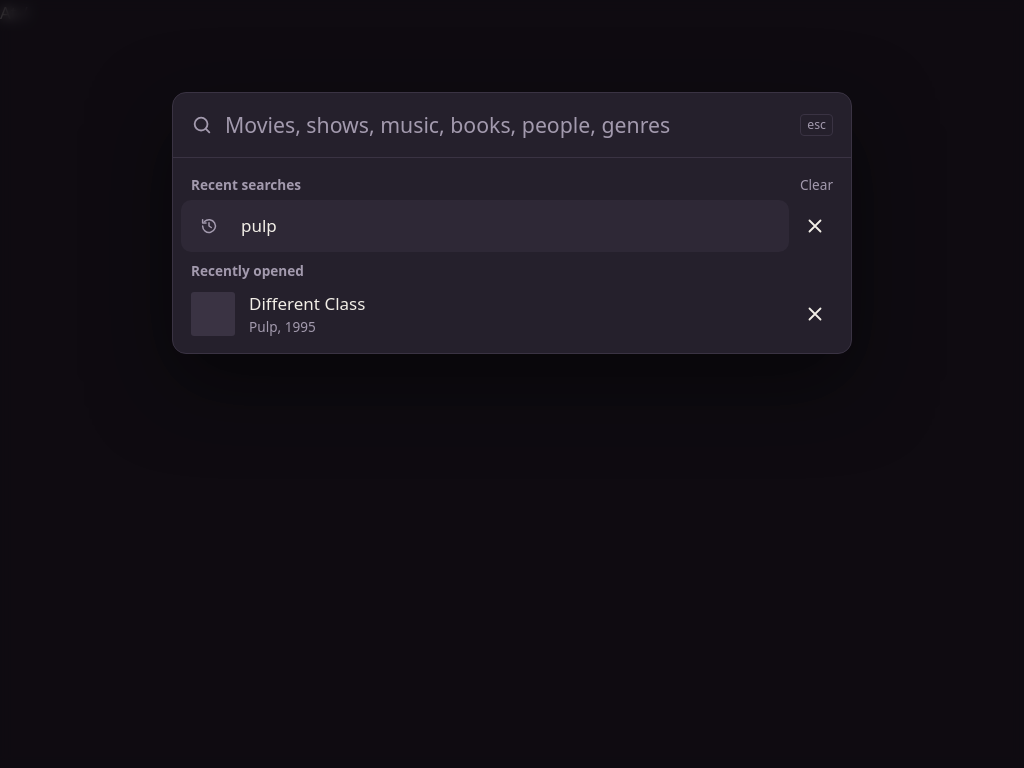
Test: SearchPalette › offers recent searches before anything’s typed, and searches again from one
Expected: the text "Different Class" is shown, [249, 291, 365, 317]
Click the option "pulp" at (259, 225), box [181, 200, 789, 252]
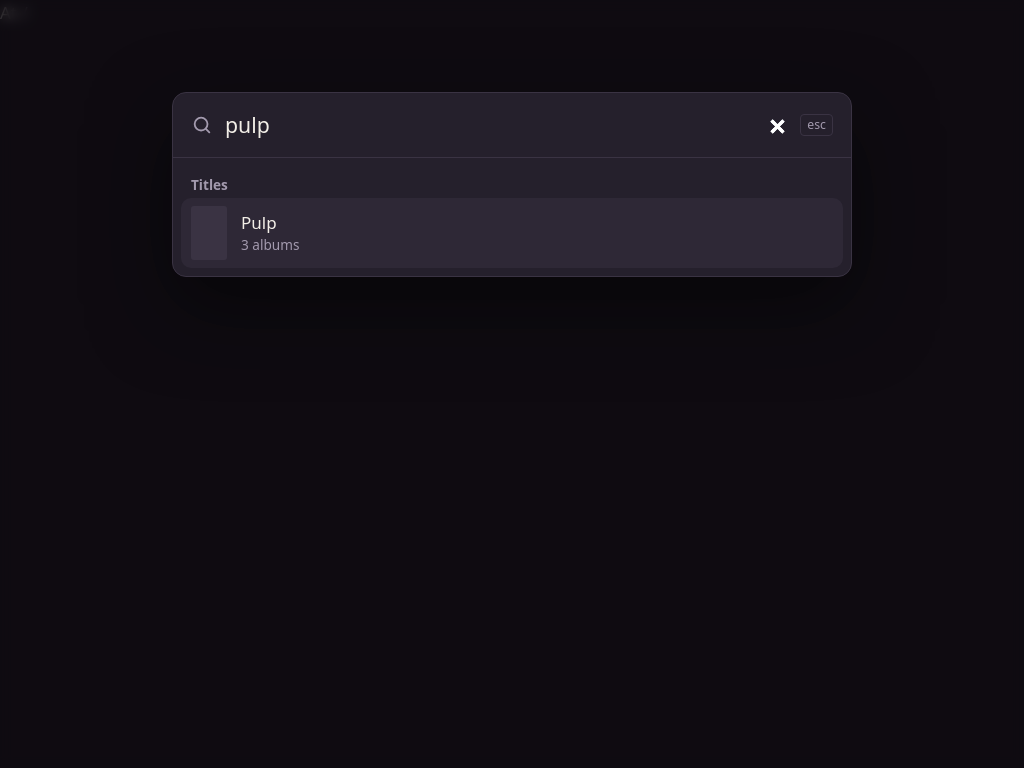
Expected: the search field named "Search your library" holds "pulp", [225, 93, 788, 157]
Expected: the element "Titles" is shown, [181, 166, 843, 268]
